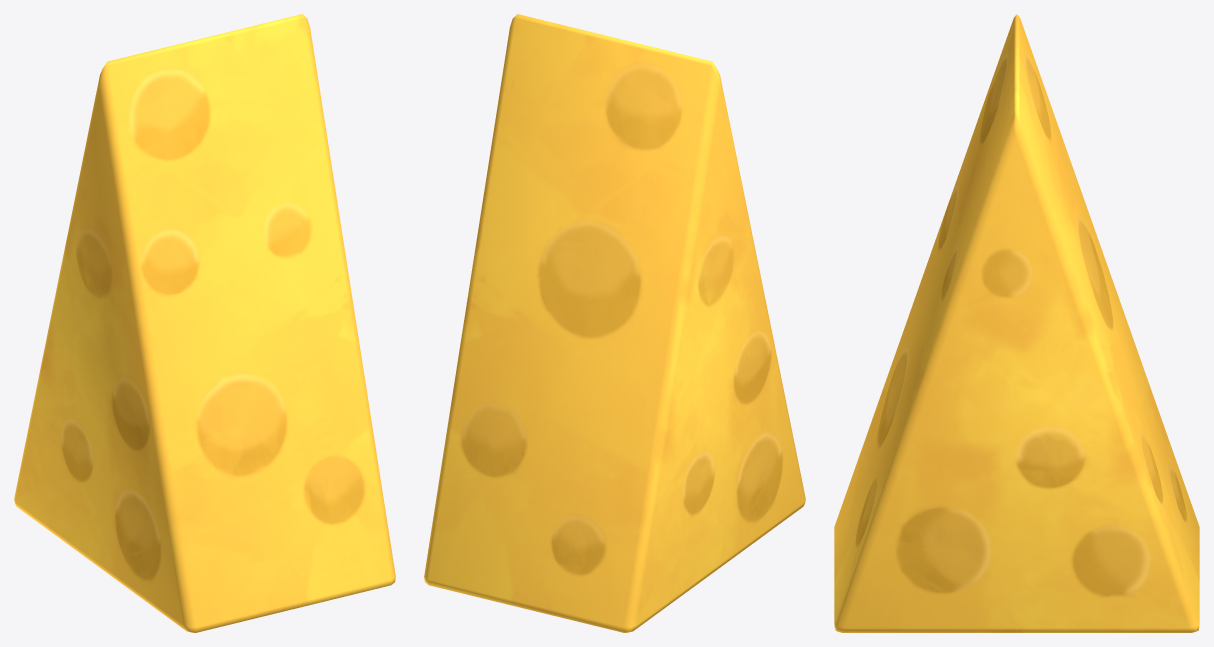
Rendered from cheese.glb.
3 renders of one model, left to right at view 1: azimuth 30°, elevation 25°; view 2: azimuth 150°, elevation 25°; view 3: azimuth 270°, elevation 25°, orthographic. The views are drawn at different scales.
Visible parts, largest first — view 1: Cheese; view 2: Cheese; view 3: Cheese.
Part boxes in pixels (bbox=[...]): Cheese: bbox=[14, 14, 395, 632]; Cheese: bbox=[424, 14, 805, 632]; Cheese: bbox=[834, 14, 1199, 632].
Size of what is drawn, in the model's own units: 0.6261 by 1.44 by 0.9125.
Materials: 1 (1 with a texture image).
